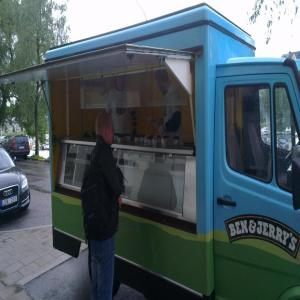Vehicle-registration-plate: (2, 197, 19, 208)
